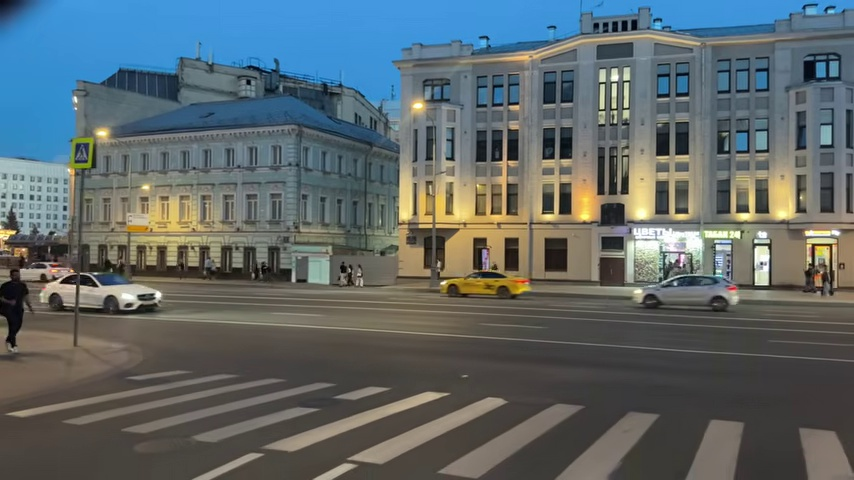acesa: (409, 98, 427, 115), (95, 126, 111, 142)
